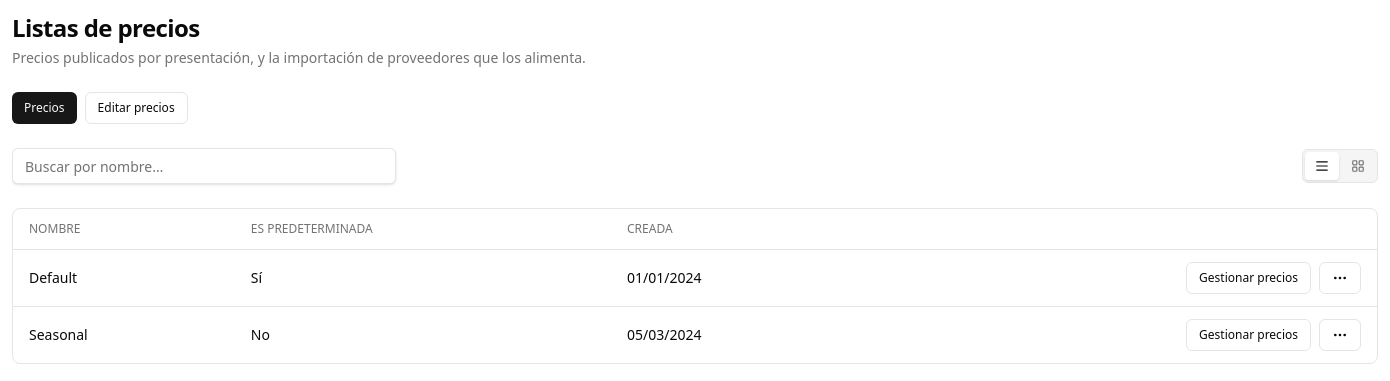
Test: PriceListsScreen › filters the listed price lists client-side by name
Expected: the text "Seasonal" is shown, [13, 306, 235, 363]
Expected: the text "Default" is shown once, [13, 250, 235, 306]
Type "seasonal" into the search field named "buscar listas de precios" at {"x": 204, "y": 166}, box [12, 148, 396, 184]
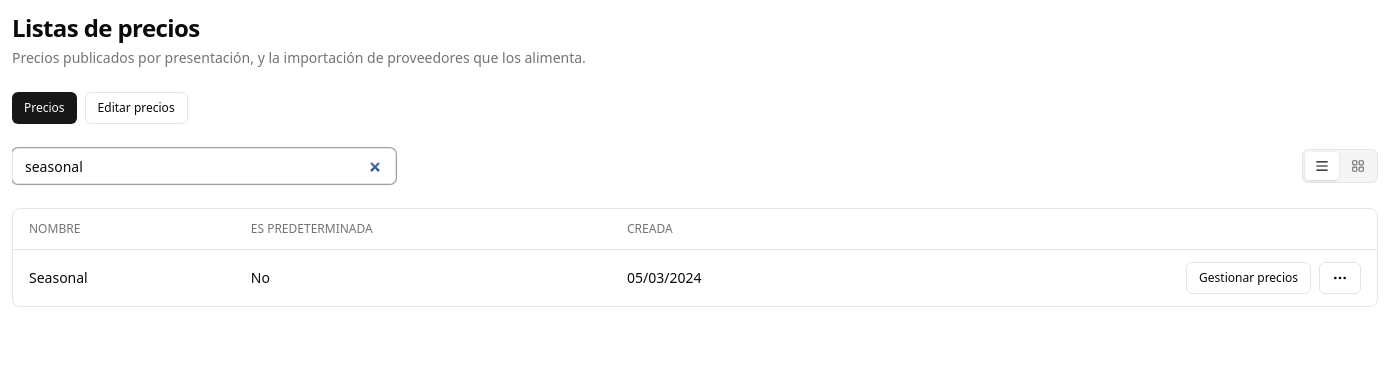
Expected: the text "Seasonal" is shown, [13, 250, 235, 306]
Result: the text "Default" is not shown
